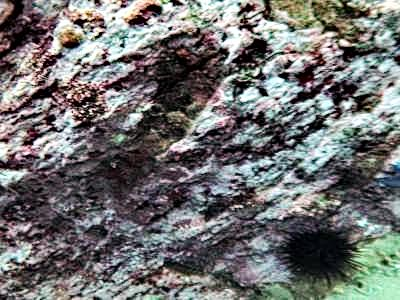urchin: (280, 225, 365, 281)
